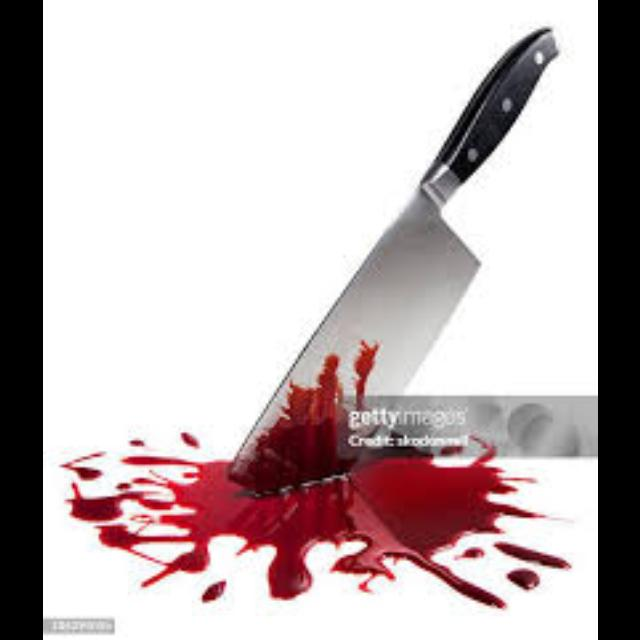Knife: (226, 24, 556, 488)
